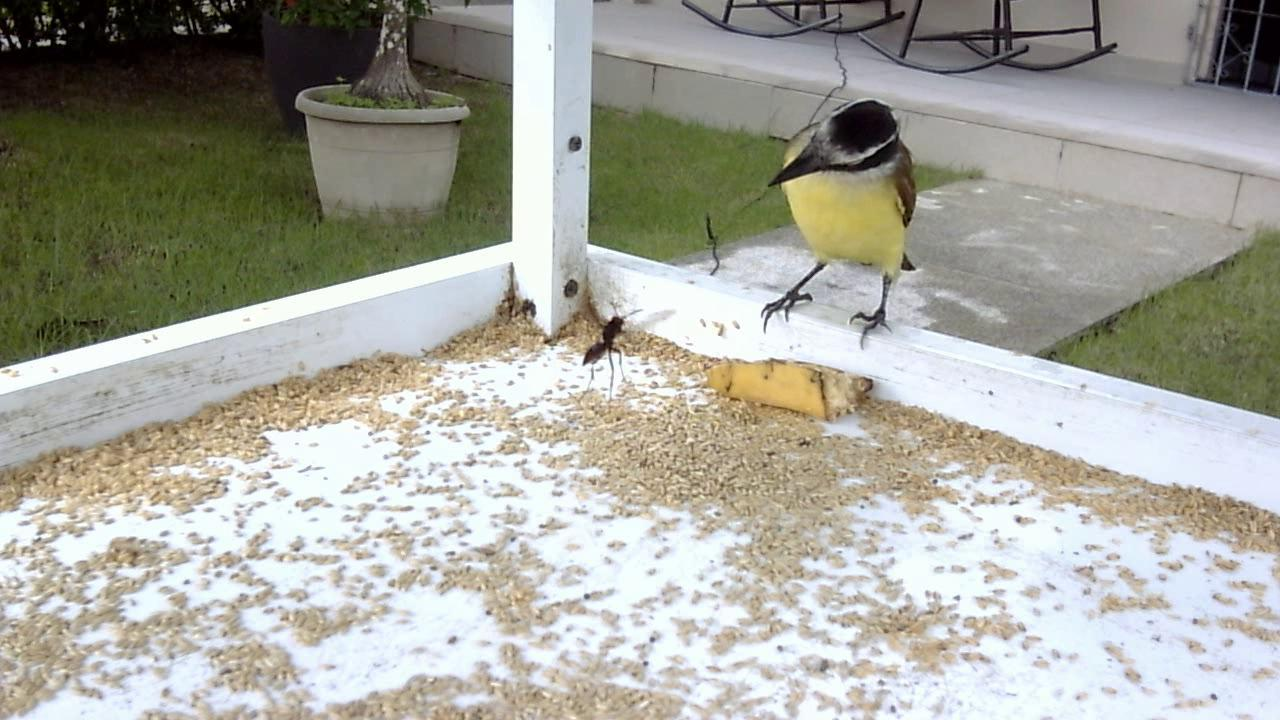bem_te_vi: (744, 80, 936, 359)
